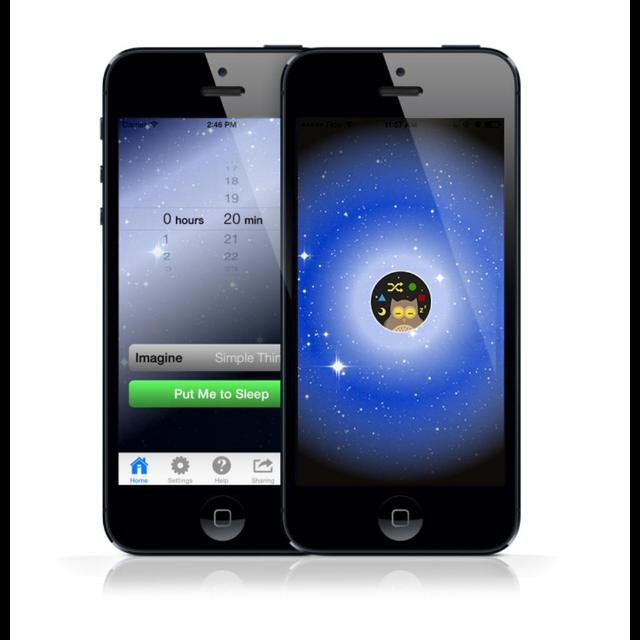Smartphone: (281, 44, 525, 560), (97, 28, 290, 562)
